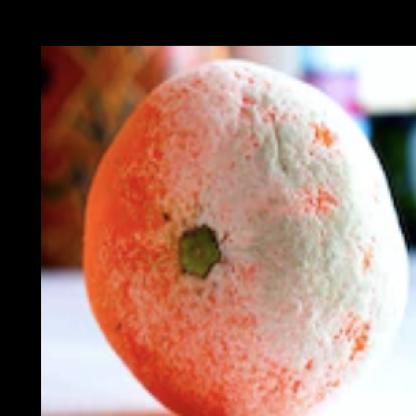rotten: (83, 56, 408, 416)
